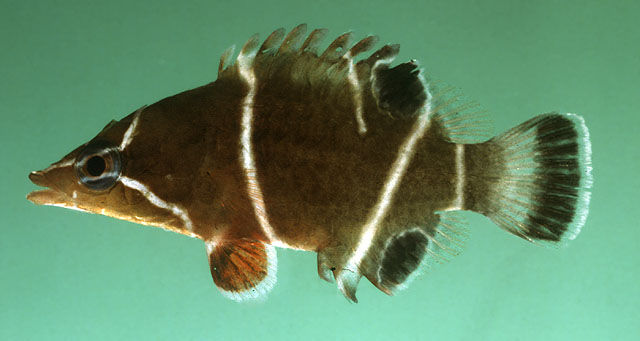fish: (25, 24, 594, 305)
